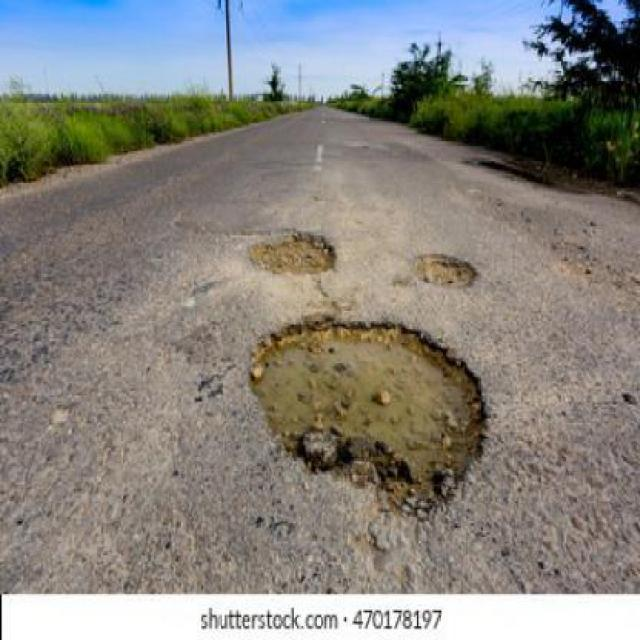pothole: (246, 316, 488, 519), (246, 231, 337, 274), (413, 251, 476, 291)
